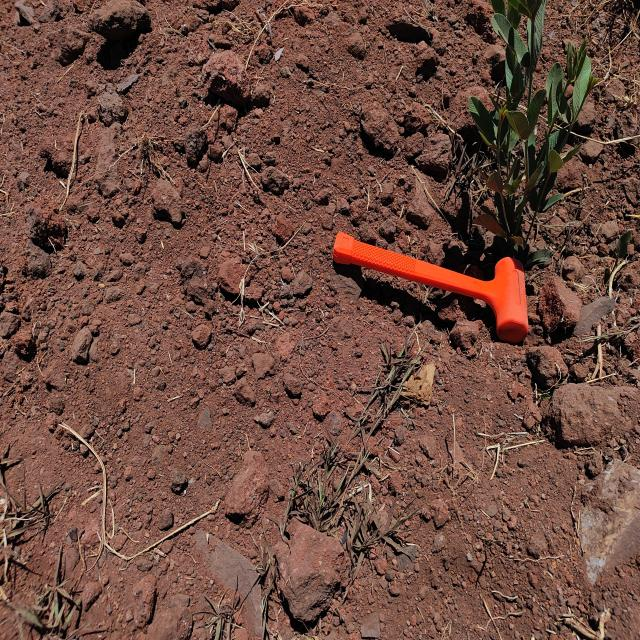Orange_hammer: (332, 230, 529, 344)
